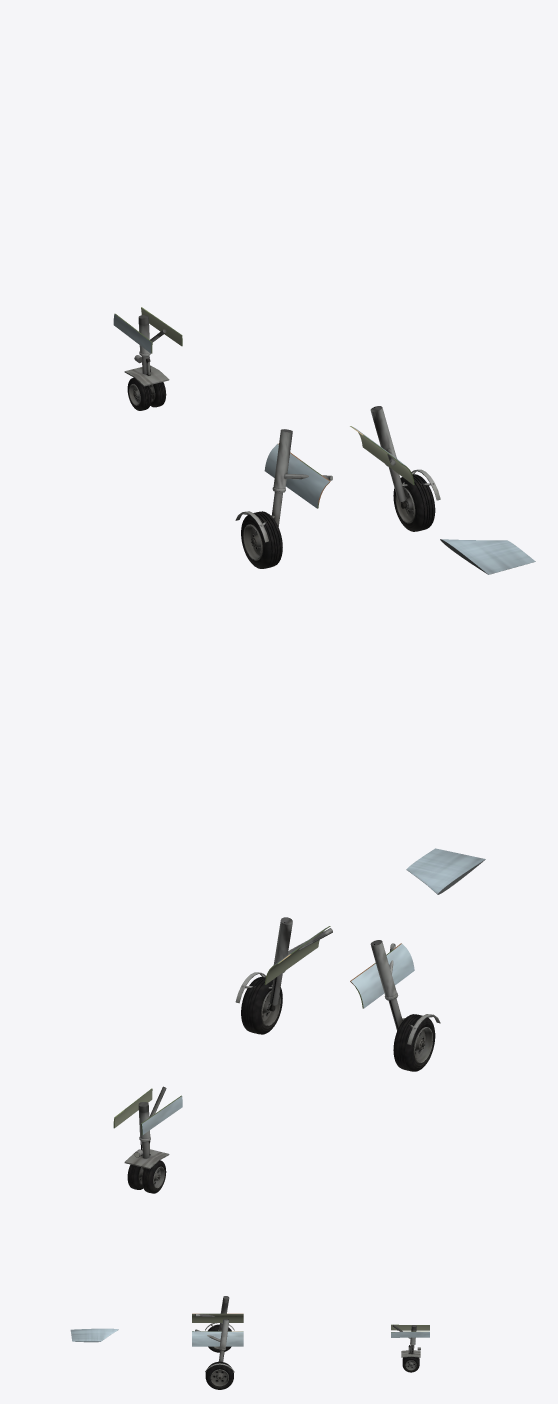
Rendered from e_mig27_gear.glb.
3 views of the same model, one above another, from view 1: azimuth 30°, elevation 25°; view 2: azimuth 150°, elevation 25°; view 3: azimuth 270°, elevation 25° (orthographic). The views are drawn at different scales.
Visible parts, largest first — view 1: body|MG_paint; view 2: body|MG_paint; view 3: body|MG_paint.
Part boxes in pixels (x1,y1,x2,y2): body|MG_paint: (113, 307, 535, 574); body|MG_paint: (113, 848, 485, 1193); body|MG_paint: (70, 1296, 429, 1389).
Bounding box in the file's own units: 3.18 × 5.13 × 16.65.
1 material, 1 textured.
